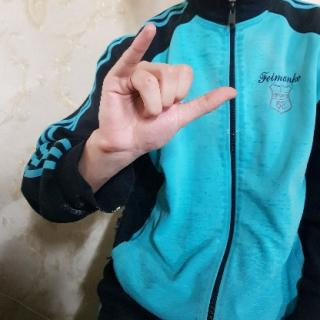YA: (93, 22, 240, 162)
